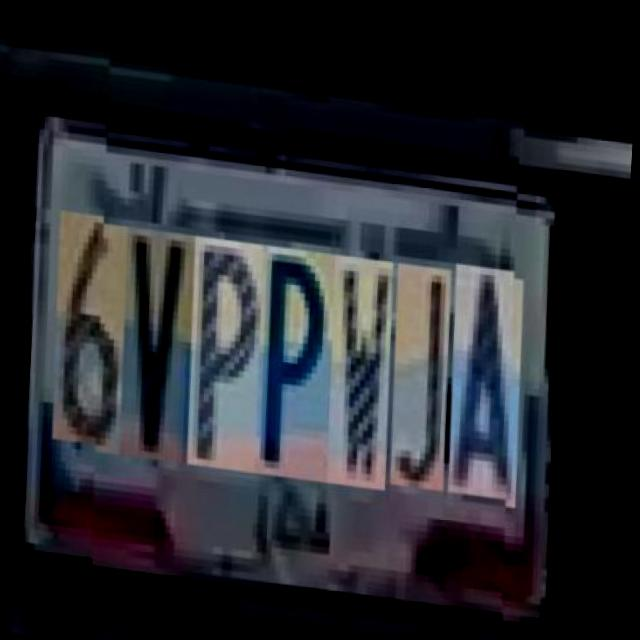6: (51, 216, 134, 451)
a: (449, 251, 532, 486)
j: (389, 251, 458, 478)
p: (254, 237, 342, 472), (187, 230, 270, 465)
v: (119, 223, 202, 458)
w: (327, 245, 400, 478)
